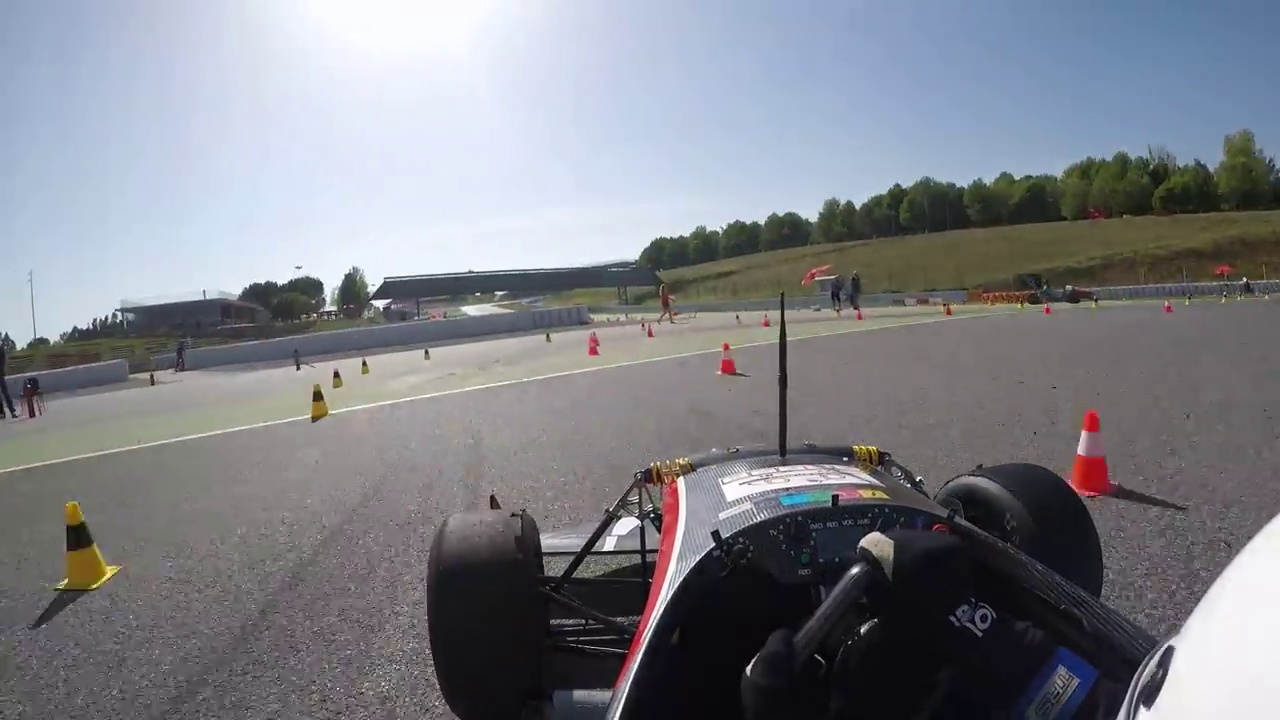Cone: (54, 498, 111, 597), (1067, 408, 1115, 495), (308, 380, 329, 420), (717, 341, 739, 376)
